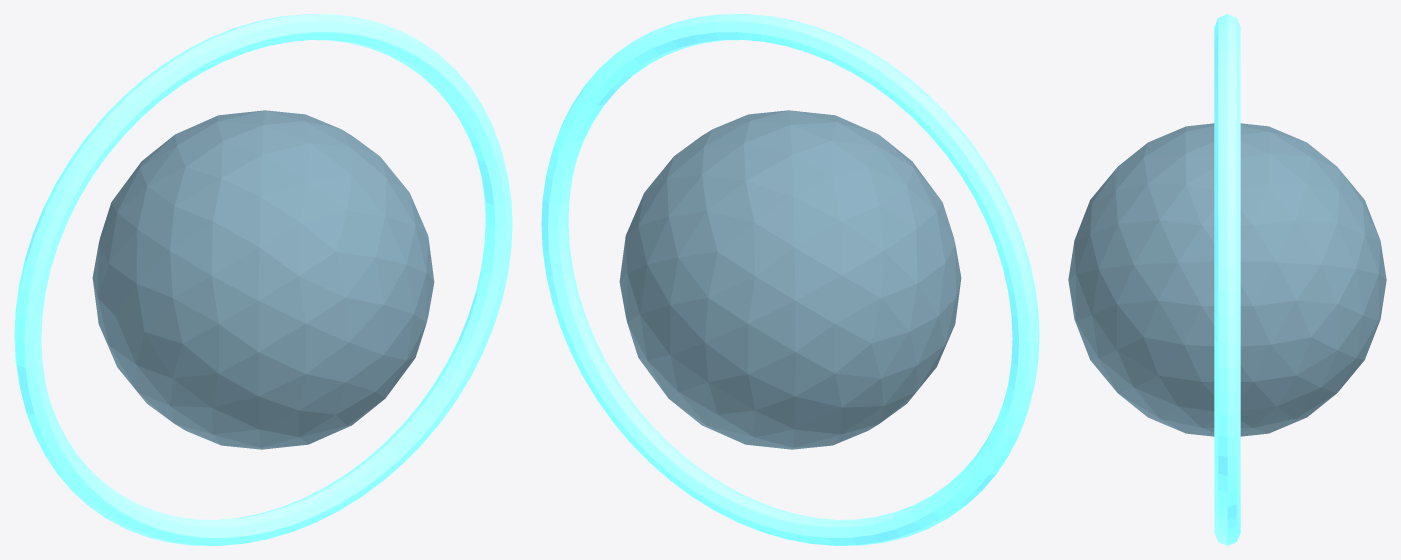
Rendered from hexad-node.glb.
The picture shows the model from 3 angles, left to right: view 1: azimuth 30°, elevation 25°; view 2: azimuth 150°, elevation 25°; view 3: azimuth 270°, elevation 25°; orthographic projection. The views are drawn at different scales.
Visible parts, largest first — view 1: Node_Core, Node_Ring; view 2: Node_Core, Node_Ring; view 3: Node_Core, Node_Ring.
Part boxes in pixels (x1=…): Node_Core: x1=92, y1=110, x2=434, y2=449; Node_Ring: x1=14, y1=14, x2=512, y2=545; Node_Core: x1=619, y1=110, x2=961, y2=449; Node_Ring: x1=541, y1=14, x2=1039, y2=545; Node_Core: x1=1068, y1=123, x2=1386, y2=436; Node_Ring: x1=1214, y1=14, x2=1240, y2=545.
Size of the model in its own units: 0.736 by 0.736 by 0.44.
